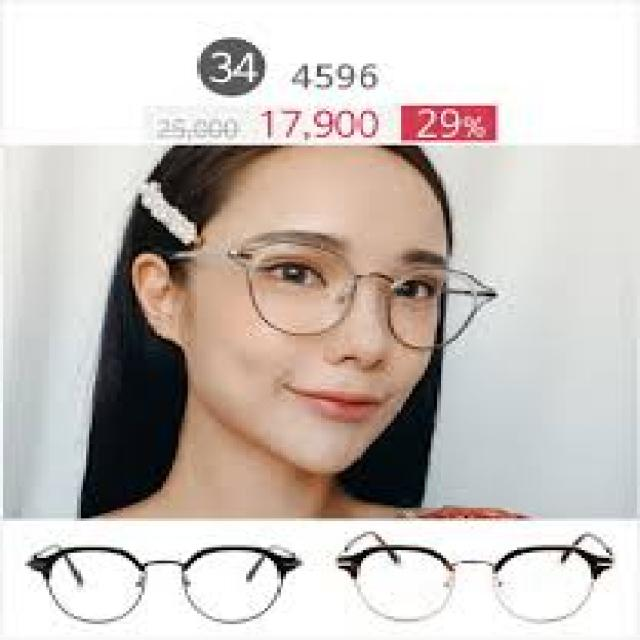Glasses: (222, 205, 516, 358)
